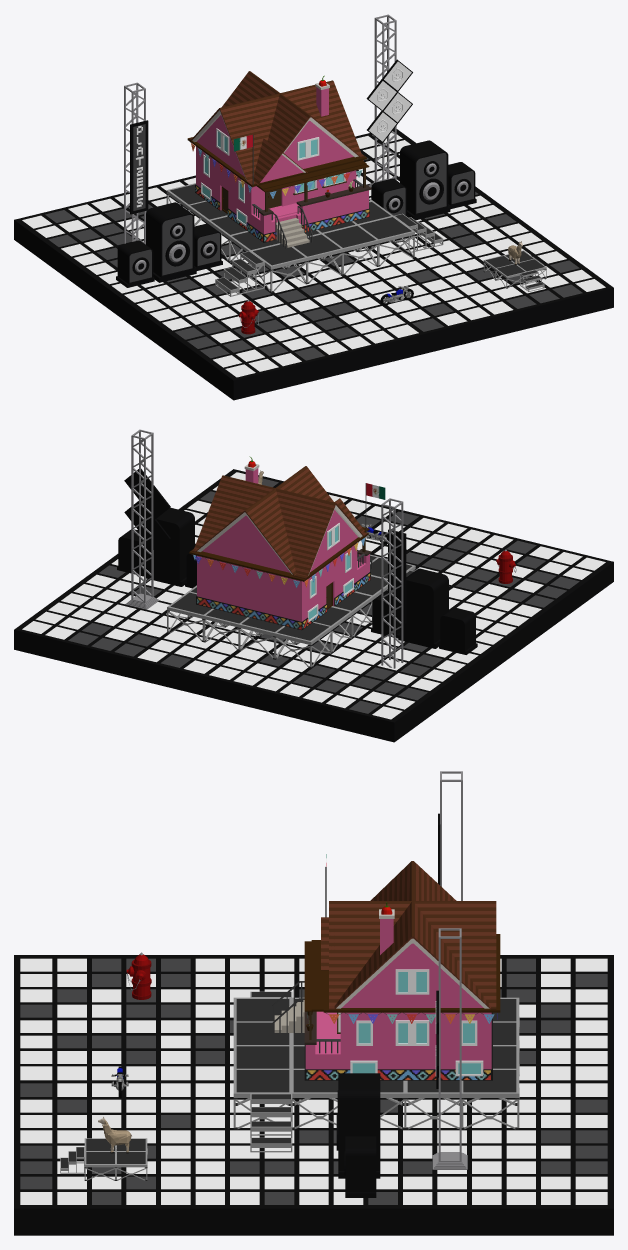
3 views of the same model, one above another, from view 1: azimuth 30°, elevation 25°; view 2: azimuth 150°, elevation 25°; view 3: azimuth 270°, elevation 25° (orthographic). The views are drawn at different scales.
Parts seen in each view (by area): view 1: Cube.008, Cube.1005; view 2: Cube.008, Cube.1005, OBJRANDOM_FIRE_HYDRANT; view 3: Cube.008, Cube.1005, OBJRANDOM_FIRE_HYDRANT.
Part boxes in pixels (left/top/right/bottom): Cube.008: left=14, top=14, right=613, bottom=400; Cube.1005: left=187, top=71, right=371, bottom=248; Cube.008: left=14, top=429, right=613, bottom=742; Cube.1005: left=189, top=456, right=385, bottom=630; OBJRANDOM_FIRE_HYDRANT: left=496, top=549, right=516, bottom=583; Cube.008: left=14, top=771, right=613, bottom=1235; Cube.1005: left=272, top=854, right=500, bottom=1080; OBJRANDOM_FIRE_HYDRANT: left=126, top=952, right=151, bottom=999.
Size of the model in its own units: 4000 by 2124 by 4000.
70 materials, 3 textured.
